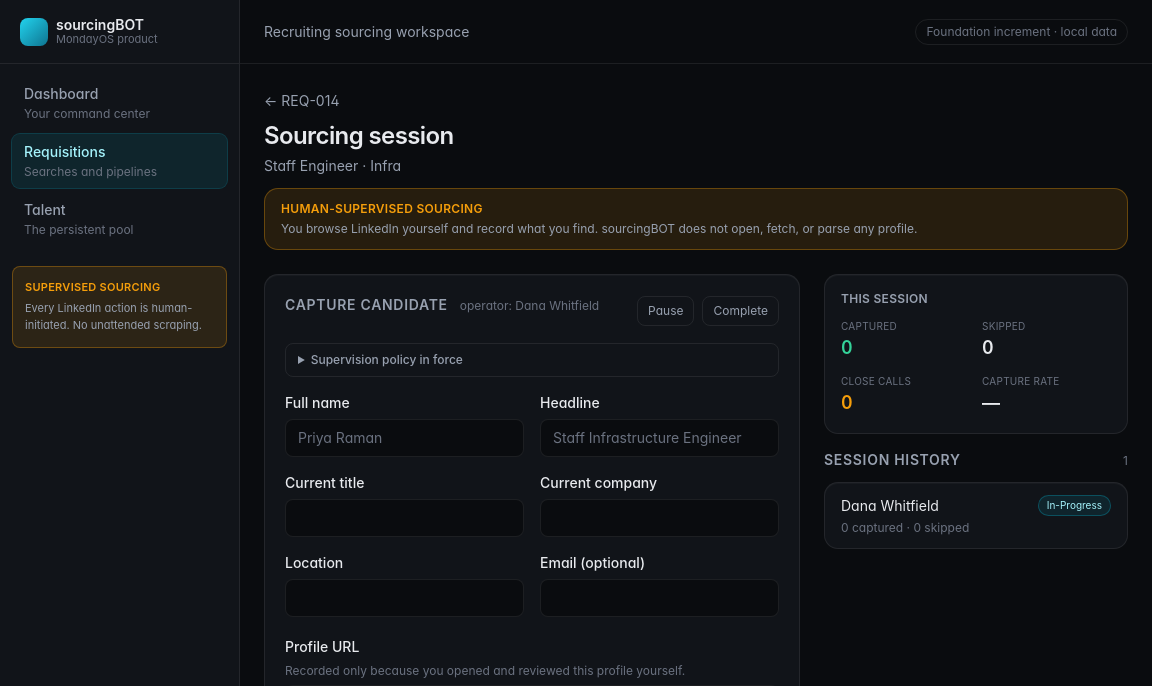
pause and resume › pauses and suspends capture
Click the button "Pause": (666, 311) x1=637 y1=296 x2=694 y2=326
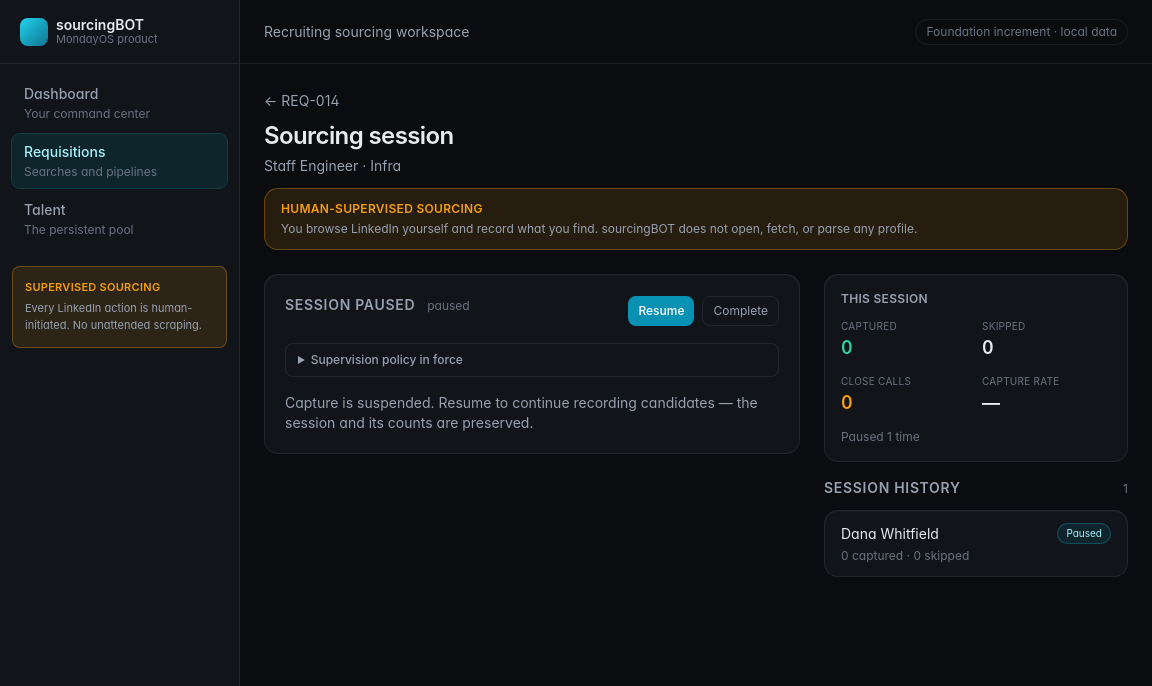
Result: the text "paused" next to "Session paused" is shown at x1=427 y1=298 x2=470 y2=313
Result: the heading "Session paused" is shown at x1=285 y1=295 x2=415 y2=315
Result: the label labelled "Full name" is gone
